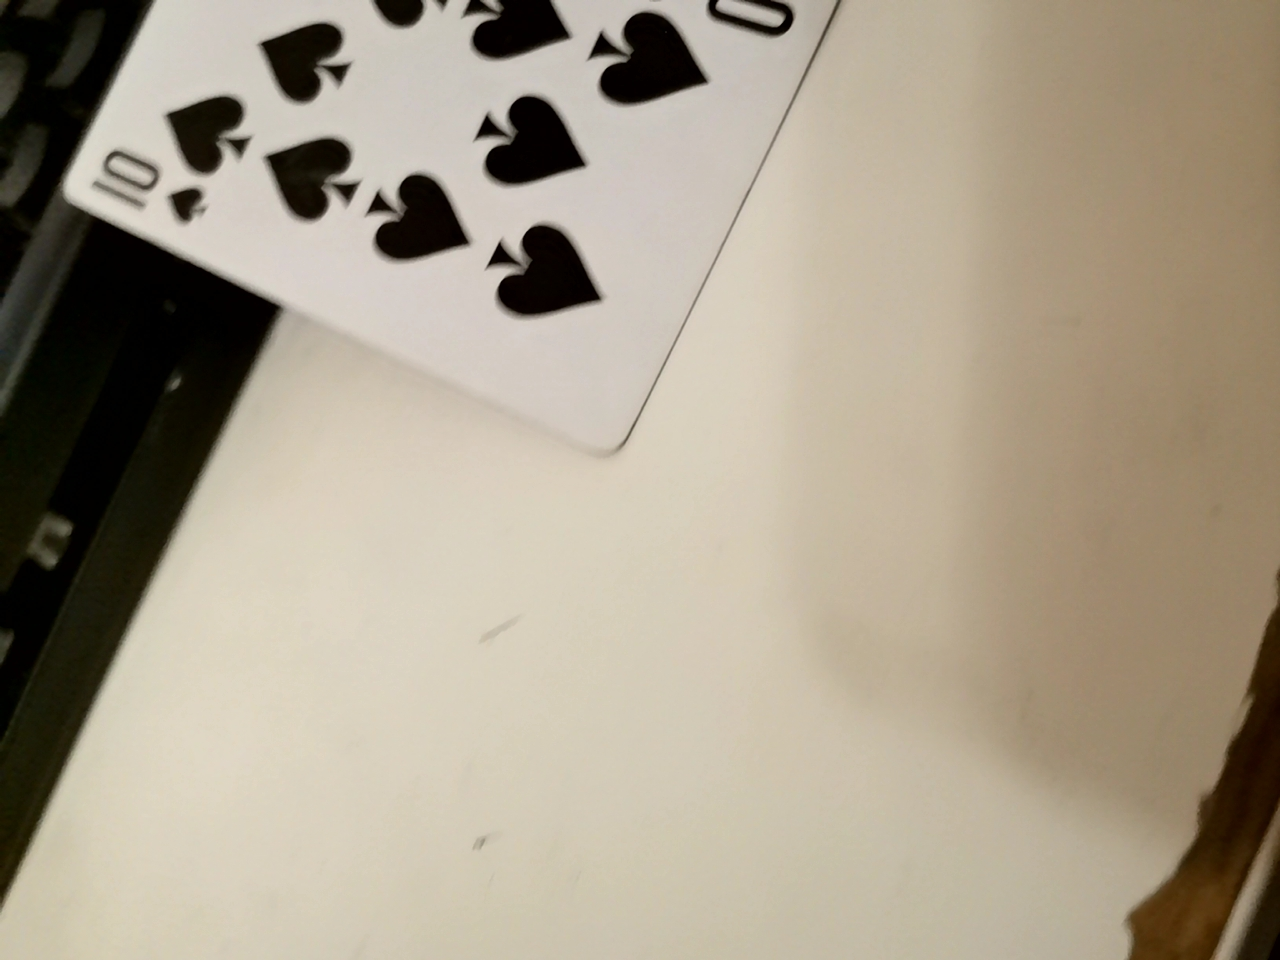ht 10: (12, 0, 812, 472)
